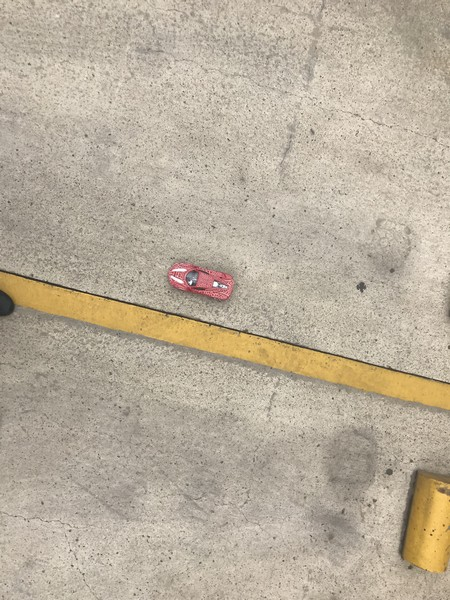RC: (166, 264, 237, 301)
